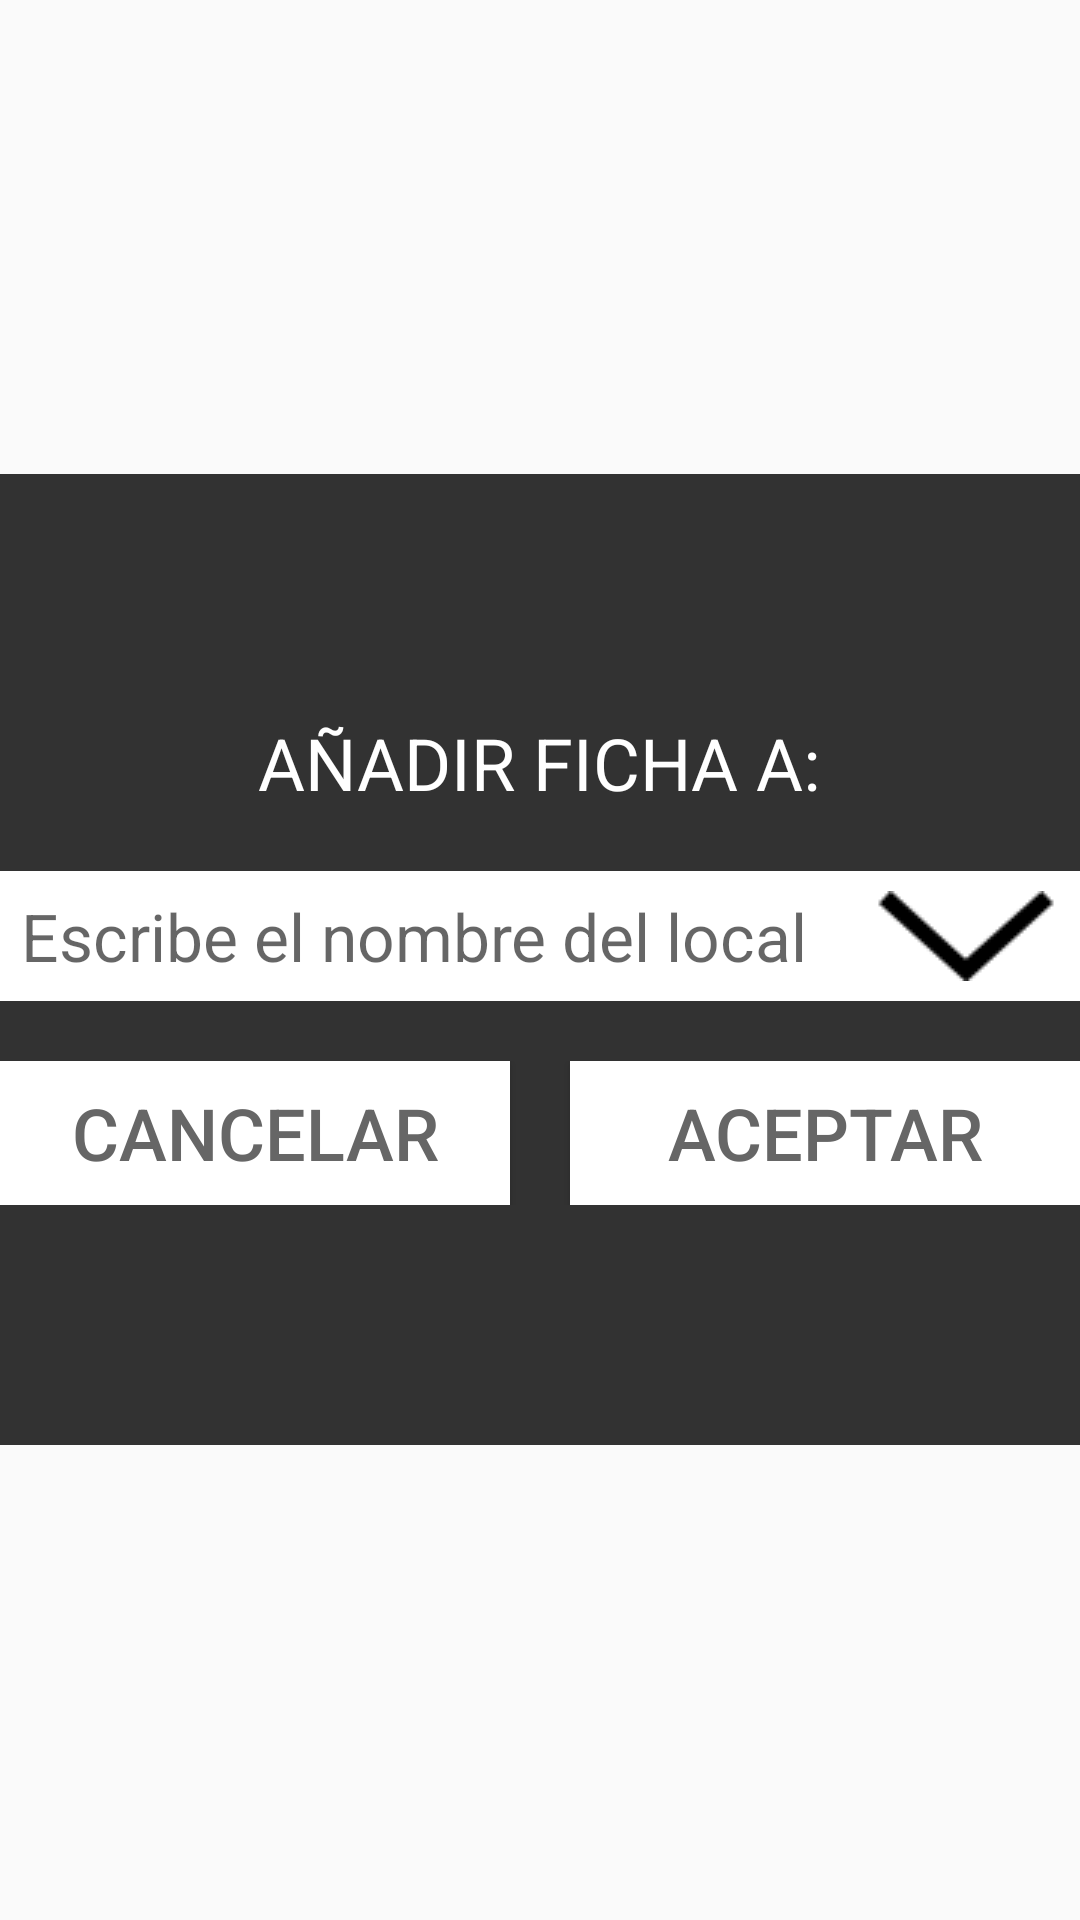

Point at icon controls on the screen. Image size 1080 x 1920, points as point (x, y).
drop down: point (978, 936)
